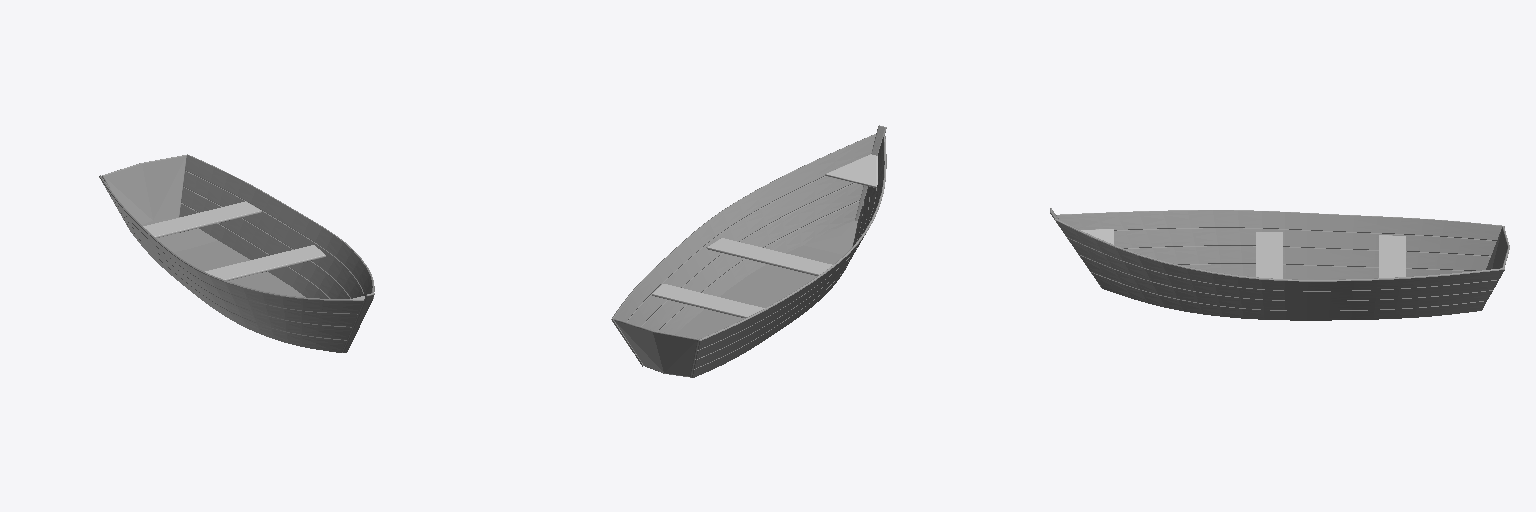
The model's file is Boot.obj.
3 renders of one model, left to right at view 1: azimuth 30°, elevation 25°; view 2: azimuth 150°, elevation 25°; view 3: azimuth 270°, elevation 25°, orthographic.
Visible parts, largest first — view 1: Side_Cube.002, Back_Cube.001, Bottom_Cube, V..Sitzbank_Plane.006, H.Sitzbank_Plane.002; view 2: Side_Cube.002, Bottom_Cube, Back_Cube.001, V..Sitzbank_Plane.006, H.Sitzbank_Plane.002, SpitzBrett_Plane.005; view 3: Side_Cube.002, V..Sitzbank_Plane.006, H.Sitzbank_Plane.002, Back_Cube.001.
Part boxes in pixels (x1,y1,x2,y2): Side_Cube.002: (99,154,374,352); Back_Cube.001: (102,155,186,224); Bottom_Cube: (142,217,305,297); V..Sitzbank_Plane.006: (205,245,325,280); H.Sitzbank_Plane.002: (143,201,261,237); Side_Cube.002: (611,134,886,377); Bottom_Cube: (645,220,857,377); Back_Cube.001: (614,318,698,376); V..Sitzbank_Plane.006: (706,238,832,275); H.Sitzbank_Plane.002: (652,284,764,317); SpitzBrett_Plane.005: (825,154,877,187); Side_Cube.002: (1055,210,1504,320); V..Sitzbank_Plane.006: (1256,232,1282,278); H.Sitzbank_Plane.002: (1379,235,1405,277); Back_Cube.001: (1486,226,1509,269).
Size of the model in its own units: 3.41 by 2.13 by 9.64.